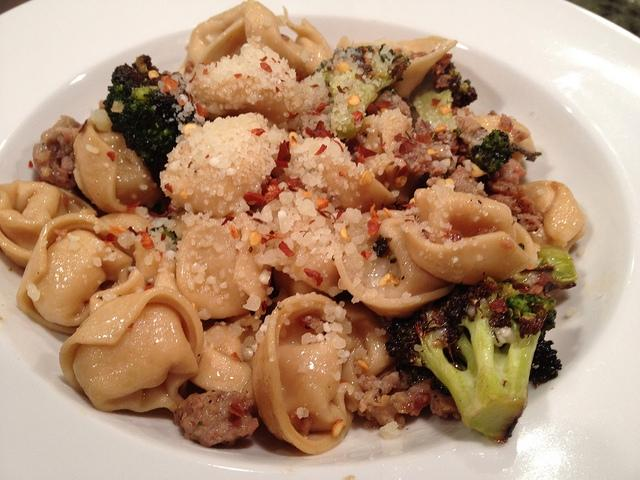broccoli: (386, 278, 556, 442), (104, 54, 194, 183), (320, 44, 397, 140), (402, 66, 477, 124), (474, 129, 518, 174)
